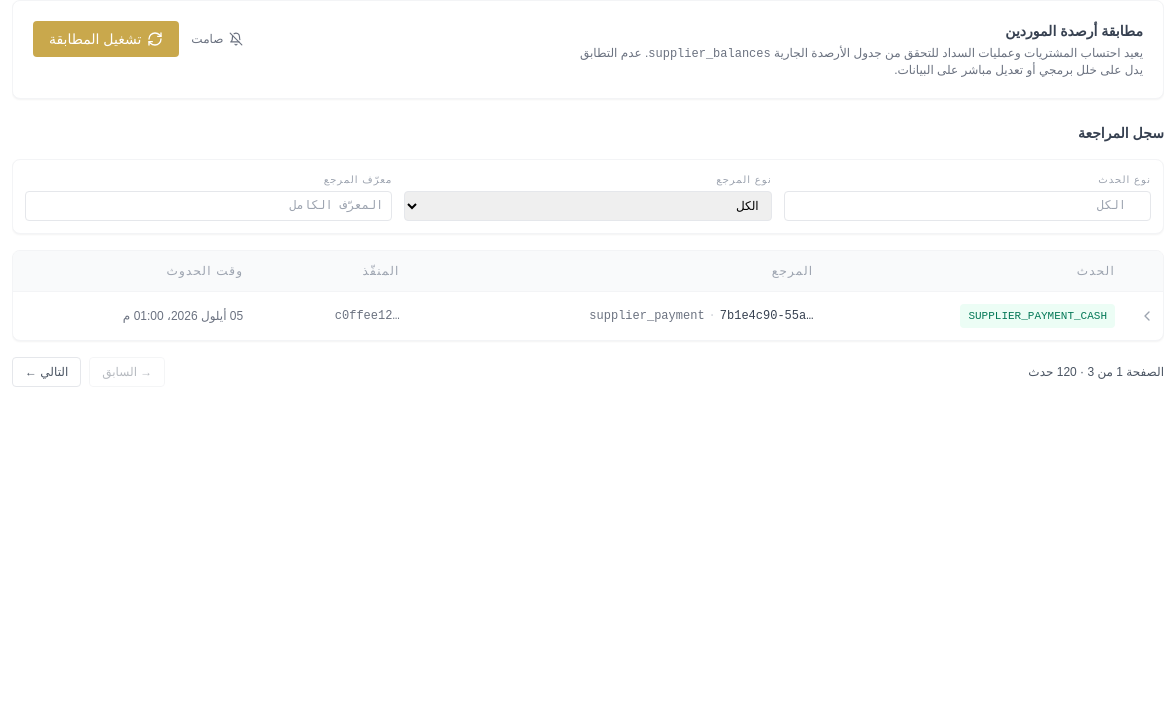
Scenario: inventory ledger labels and i18n (NEX-64) › reports drifts in Arabic, with the unit labels translated
Click the button "صامت".
click(217, 39)  # box [191,31,243,47]
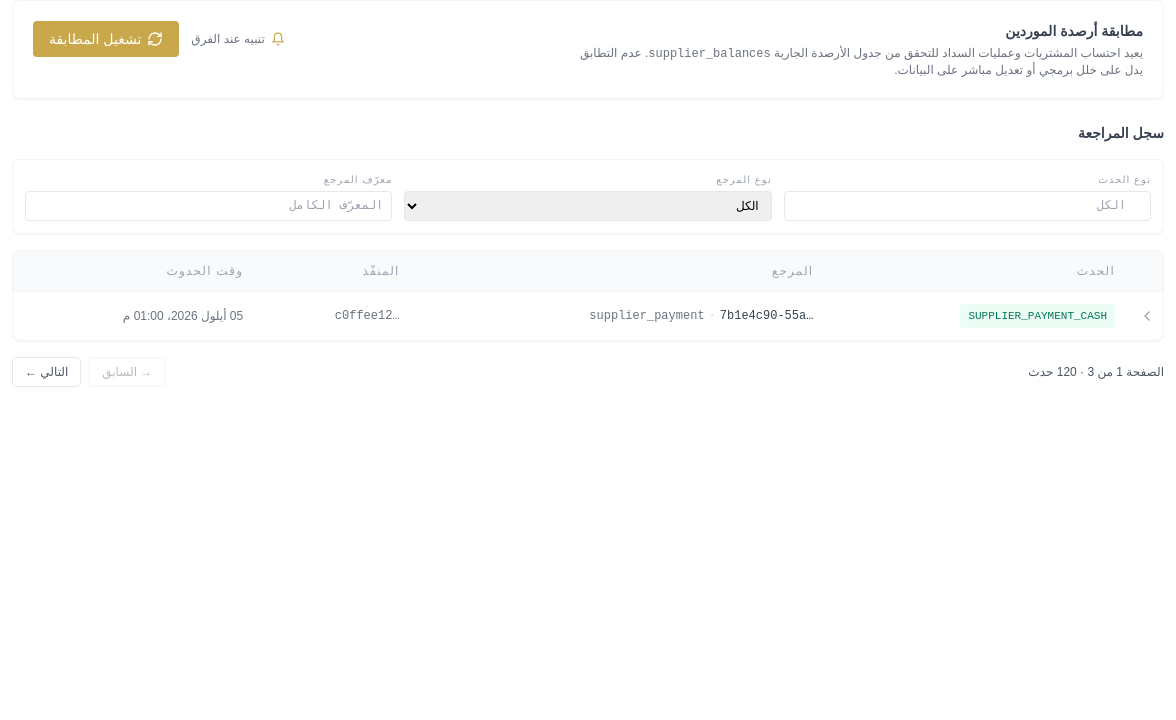
Click the button "تشغيل المطابقة".
click(106, 39)  # box [33,21,179,57]
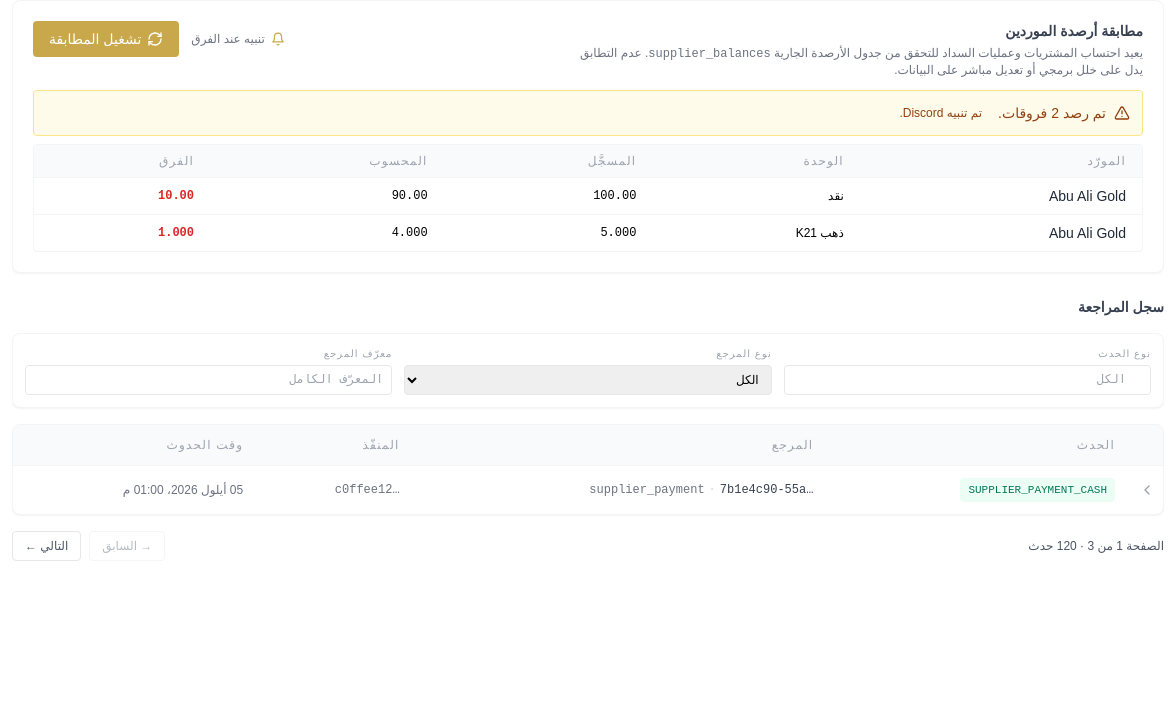
Result: the text "تم تنبيه Discord." is shown at [899,105,982,121]
Result: the column heading "المورّد" is shown at [860,145,1142,178]
Result: the column heading "الوحدة" is shown at [652,145,860,178]
